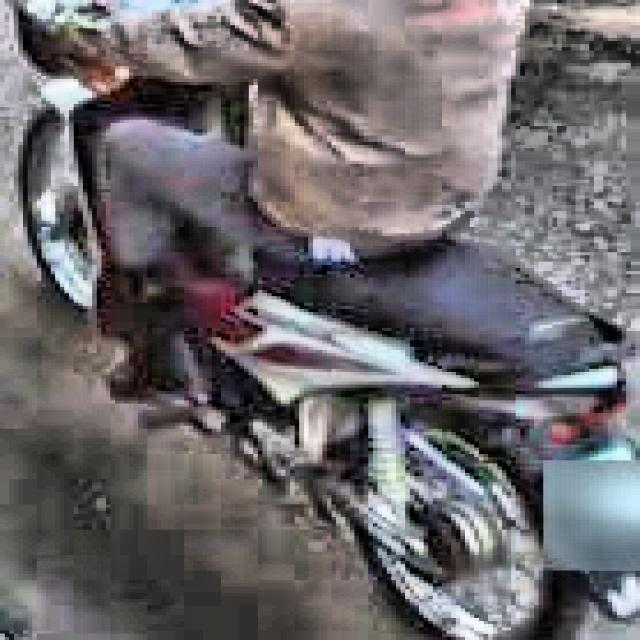motorcycle: (13, 0, 640, 637)
